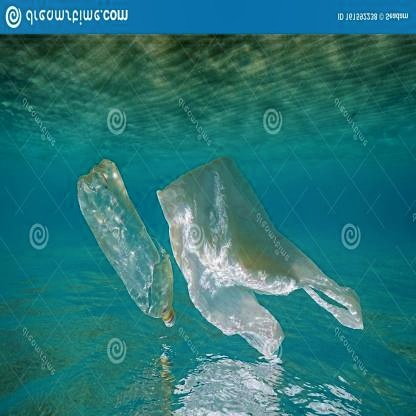pbag: (151, 148, 369, 361)
pbottle: (72, 154, 182, 334)
